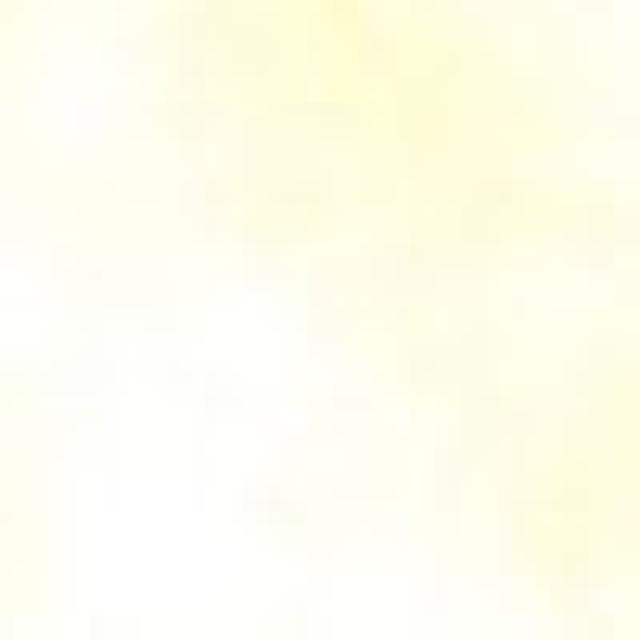fire: (15, 24, 634, 633)
